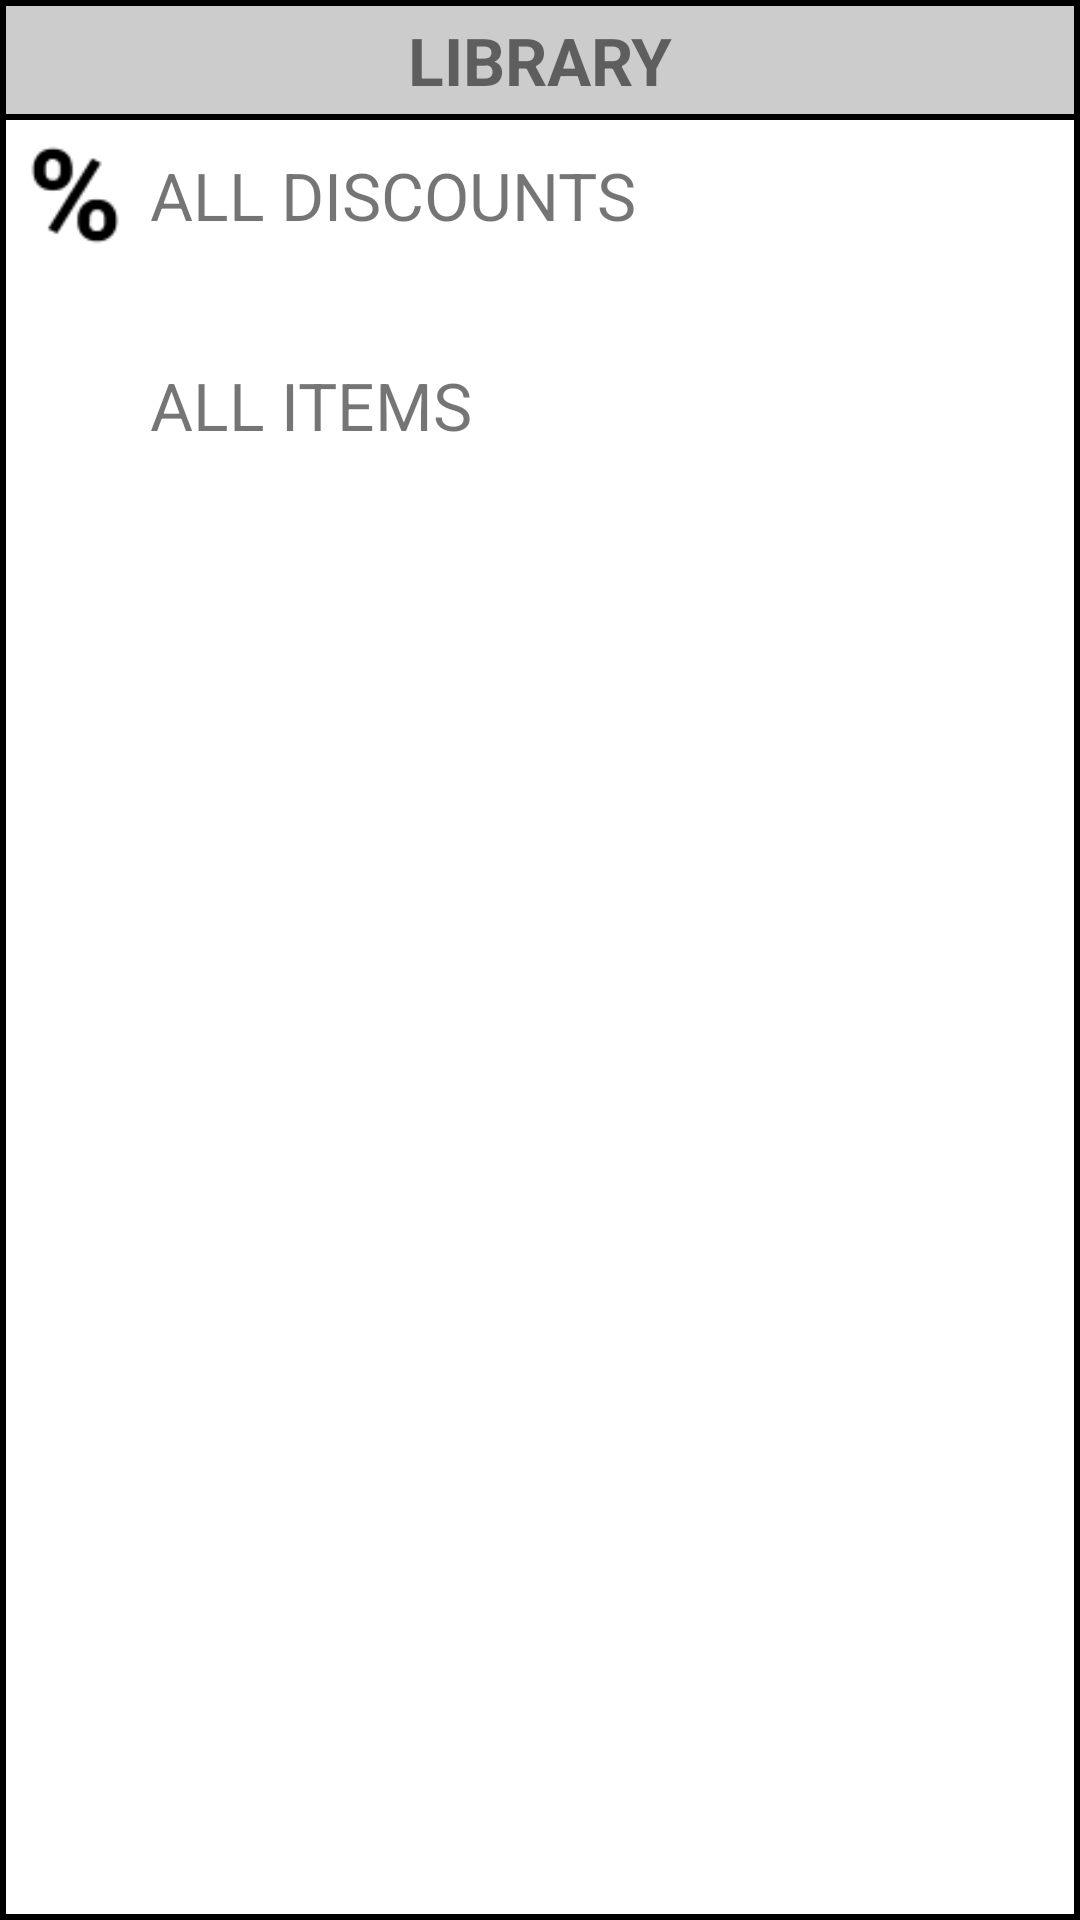

Icon click points for this 1080*1920 phone screenshot, format [x,y]:
percentage: [75,195]
